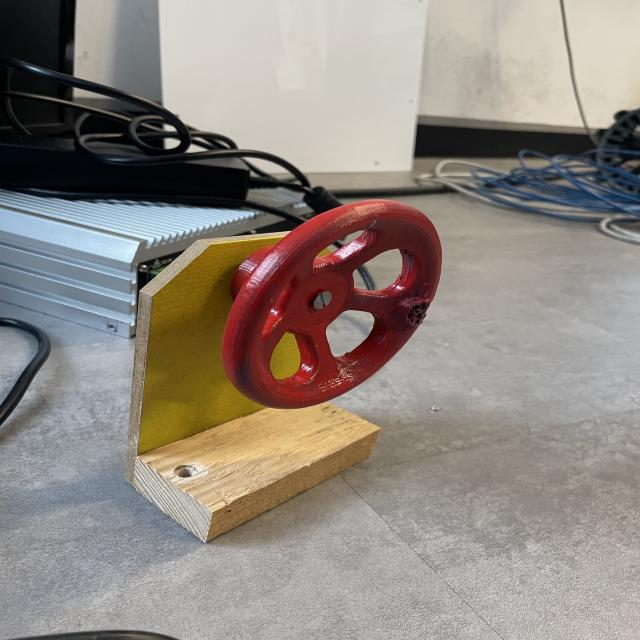Wheel Handle Valve Threaded: (220, 197, 444, 410)
